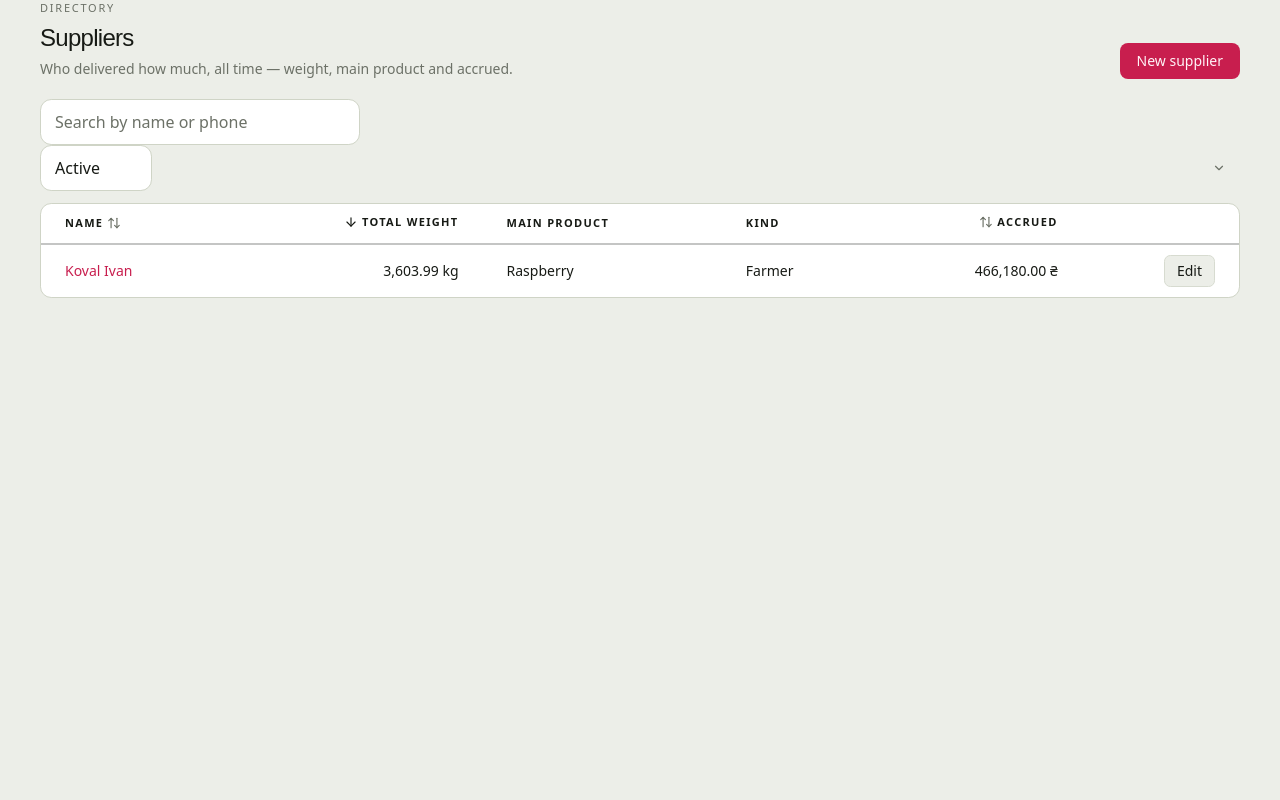
Test: SuppliersPage › cancelling the edit leaves the user on the list
Step 1. Click the button with aria-label "Edit Koval Ivan" → (1189,270), box [1164,254,1215,286]
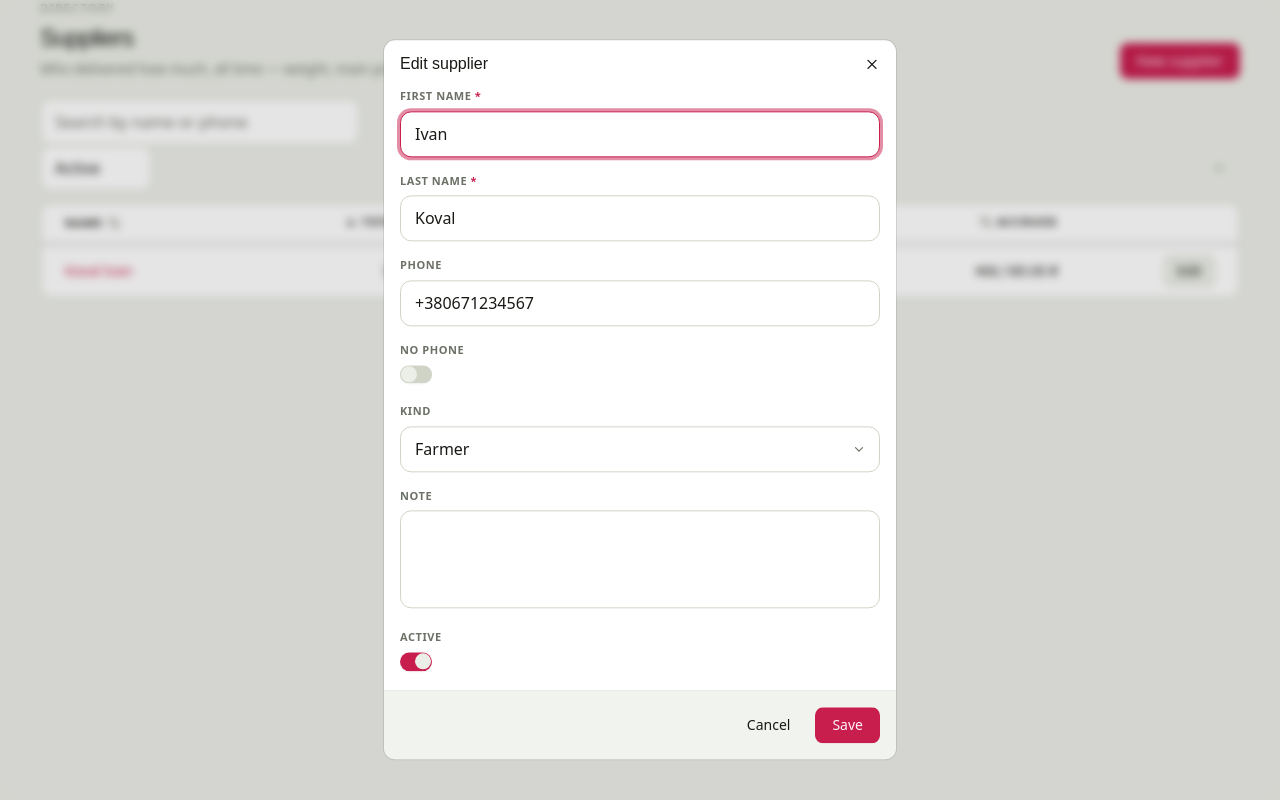
Step 2. Click the button "Cancel" → (769,726), box [730,708,807,744]
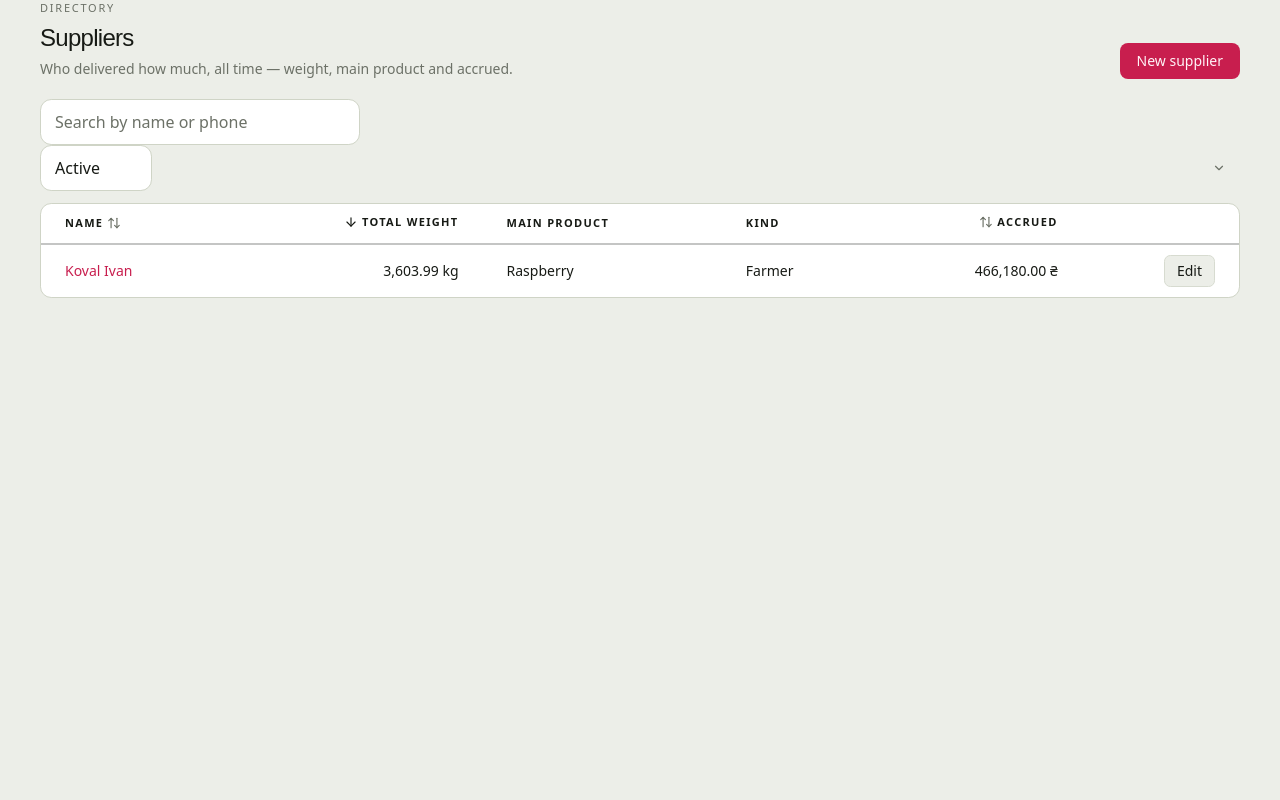
Expected: the link "Koval Ivan" is shown, [65,260,132,280]
Expected: the label labelled "First name" is gone
